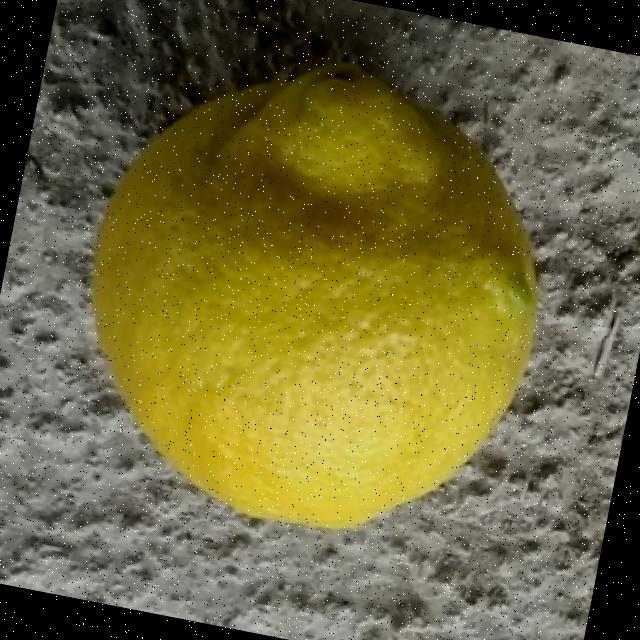Ripe: (41, 19, 588, 570)
